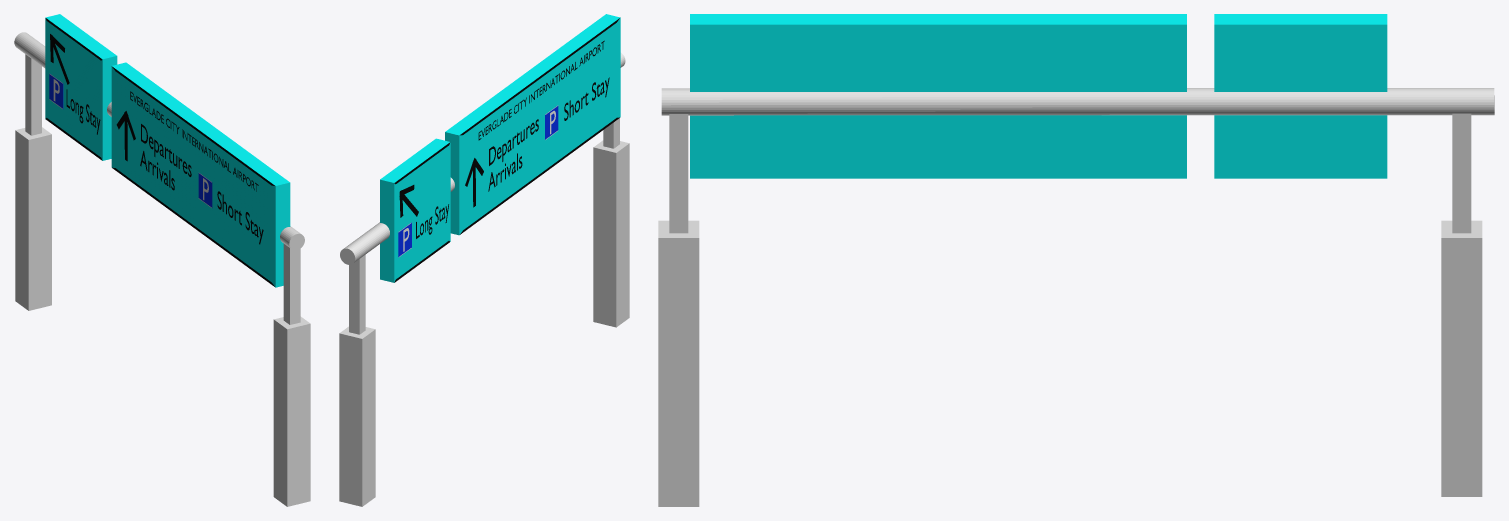
The model's file is ECIA_sign_1.fbx.
3 renders of one model, left to right at view 1: azimuth 30°, elevation 25°; view 2: azimuth 150°, elevation 25°; view 3: azimuth 270°, elevation 25°, orthographic. The views are drawn at different scales.
Parts seen in each view (by area): view 1: Cube.001, Cube.002, Cube, Cube.004, Cylinder, Text.001, Text, Text.003, Cube.005, Cube.003; view 2: Cube.001, Cube, Cube.004, Cube.002, Cylinder, Text.001, Text, Text.003, Cube.005; view 3: Cube.001, Cube.004, Cylinder, Cube.002, Cube.
Part boxes in pixels (bbox=[...]): Cube.001: bbox=[111, 62, 290, 287]; Cube.002: bbox=[273, 243, 310, 506]; Cube: bbox=[15, 54, 51, 310]; Cube.004: bbox=[45, 14, 117, 160]; Cylinder: bbox=[14, 32, 304, 250]; Text.001: bbox=[140, 124, 191, 190]; Text: bbox=[130, 91, 258, 191]; Text.003: bbox=[217, 191, 263, 244]; Cube.005: bbox=[49, 73, 63, 109]; Cube.003: bbox=[198, 172, 212, 207]; Cube.001: bbox=[445, 14, 620, 235]; Cube: bbox=[339, 255, 375, 506]; Cube.004: bbox=[380, 138, 450, 282]; Cube.002: bbox=[593, 118, 629, 327]; Cylinder: bbox=[340, 52, 625, 264]; Text.001: bbox=[488, 119, 538, 191]; Text: bbox=[478, 40, 604, 140]; Text.003: bbox=[564, 77, 609, 120]; Cube.005: bbox=[398, 222, 411, 257]; Cube.001: bbox=[690, 14, 1186, 178]; Cube.004: bbox=[1214, 14, 1387, 178]; Cylinder: bbox=[661, 88, 1494, 115]; Cube.002: bbox=[658, 114, 699, 506]; Cube: bbox=[1441, 113, 1482, 496].
Bounding box in the file's own units: 6.43 × 76.97 × 123.
